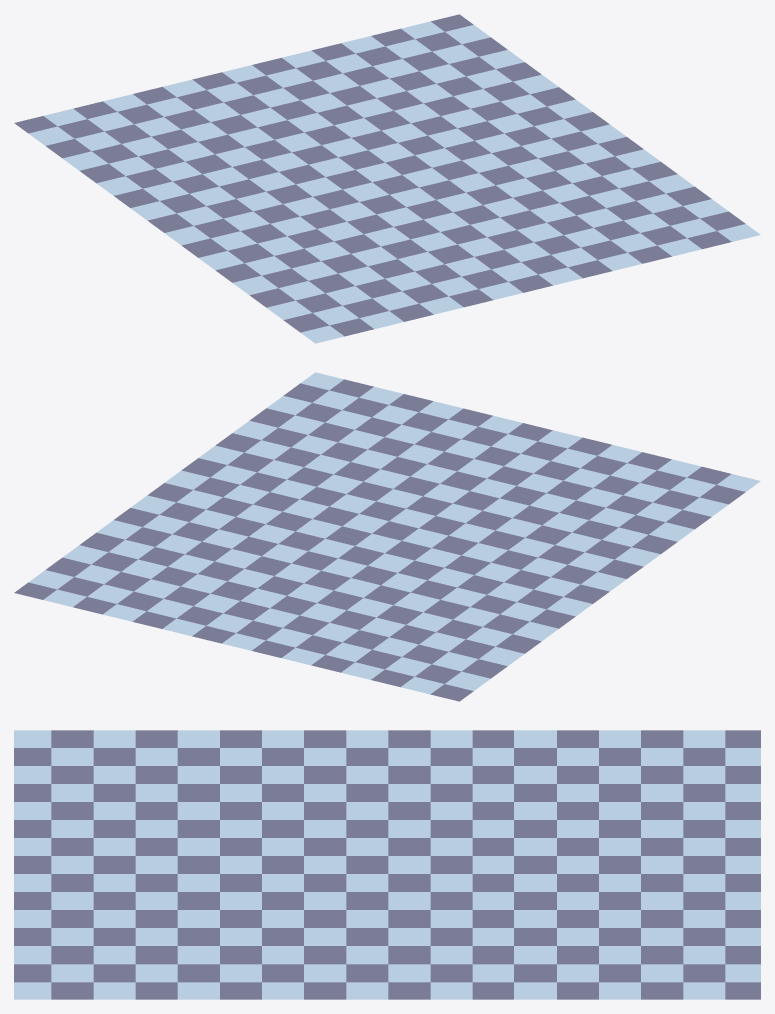
Rendered from Floor.fbx.
The picture shows the model from 3 angles, top to bottom: view 1: azimuth 30°, elevation 25°; view 2: azimuth 150°, elevation 25°; view 3: azimuth 270°, elevation 25°; orthographic projection. The views are drawn at different scales.
Visible parts, largest first — view 1: DOME_019_Krusty_Burger.008; view 2: DOME_019_Krusty_Burger.008; view 3: DOME_019_Krusty_Burger.008.
Boxes of the visible parts, x1,y1,x2,y2 form: DOME_019_Krusty_Burger.008: (14,14,760,343); DOME_019_Krusty_Burger.008: (14,372,760,701); DOME_019_Krusty_Burger.008: (14,730,760,999).
Bounding box in the file's own units: 1536 × 0.000136 × 1800.
1 material, 1 textured.
